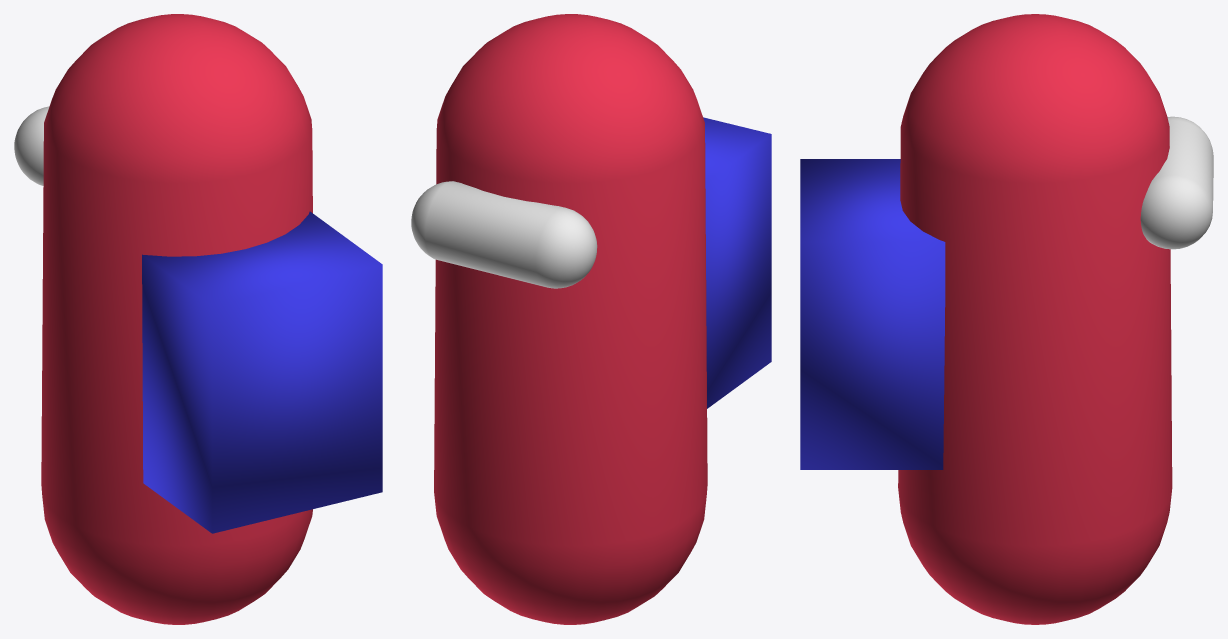
Rendered from donbor the explorer.fbx.
The picture shows the model from 3 angles, left to right: view 1: azimuth 30°, elevation 25°; view 2: azimuth 150°, elevation 25°; view 3: azimuth 270°, elevation 25°; orthographic projection.
Visible parts, largest first — view 1: Sphere; view 2: Sphere; view 3: Sphere.
Part boxes in pixels (x1=…): Sphere: x1=14, y1=14, x2=382, y2=624; Sphere: x1=411, y1=14, x2=771, y2=624; Sphere: x1=800, y1=14, x2=1213, y2=624.
Size of the model in its own units: 200 by 471 by 302.
